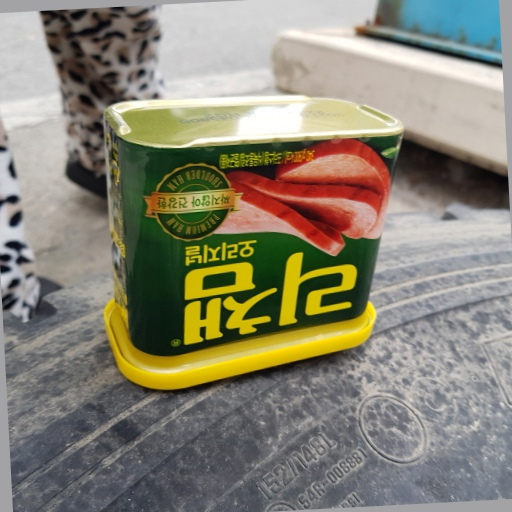Metal_2: (101, 95, 410, 388)
